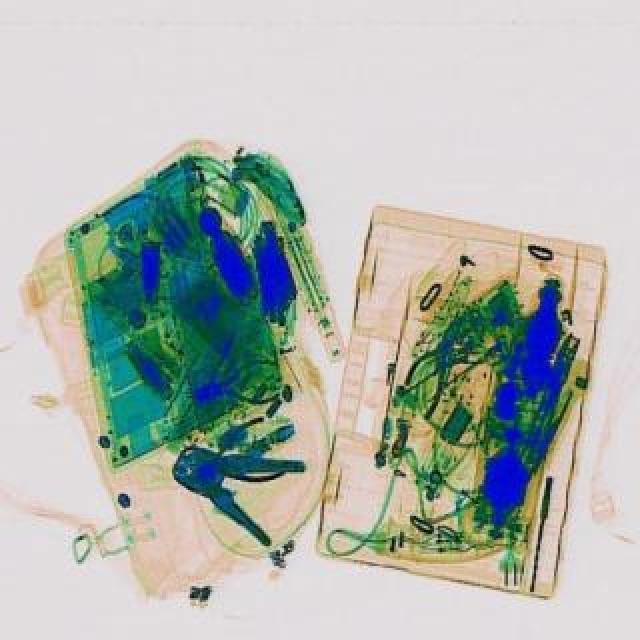wrench: (154, 416, 310, 550), (388, 302, 484, 420), (182, 416, 286, 500), (178, 354, 286, 414)
